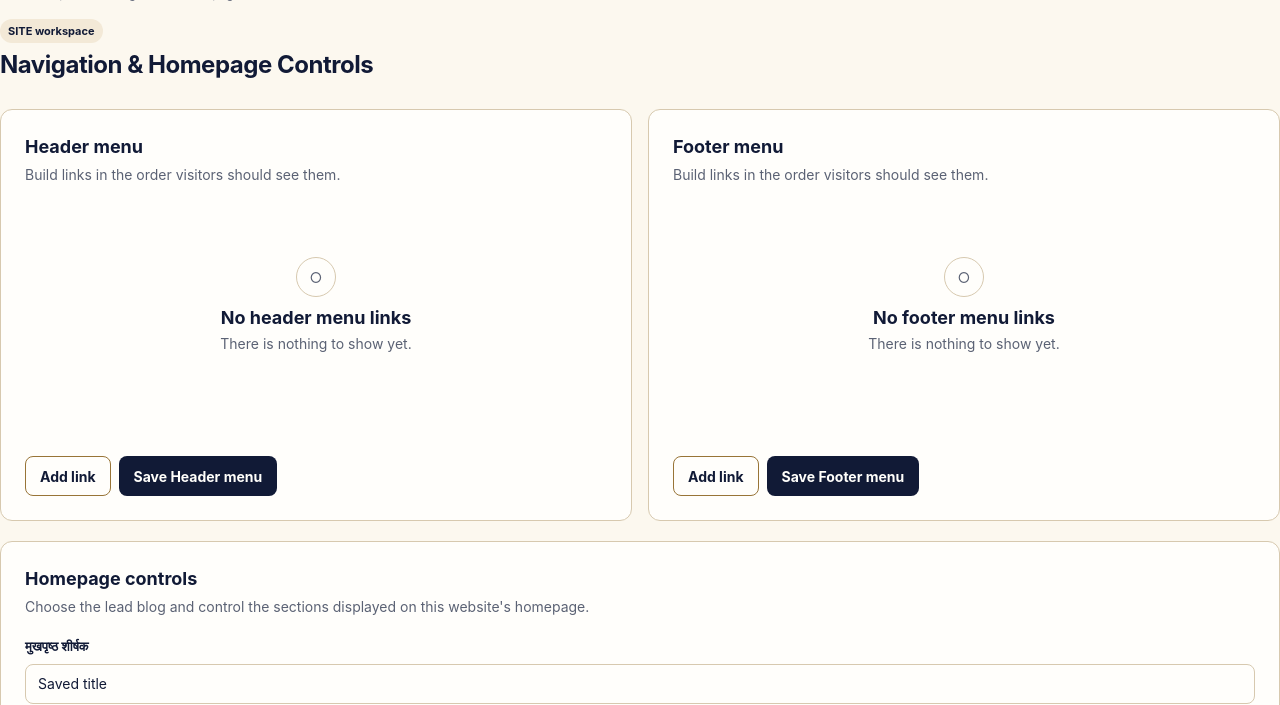
Home starter placeholders cannot be submitted by the workspace
The width and height of the screenshot is (1280, 705).
Clear the field labelled "मुखपृष्ठ शीर्षक". click: (640, 684)
box: [25, 664, 1255, 704]
(page scrolled)
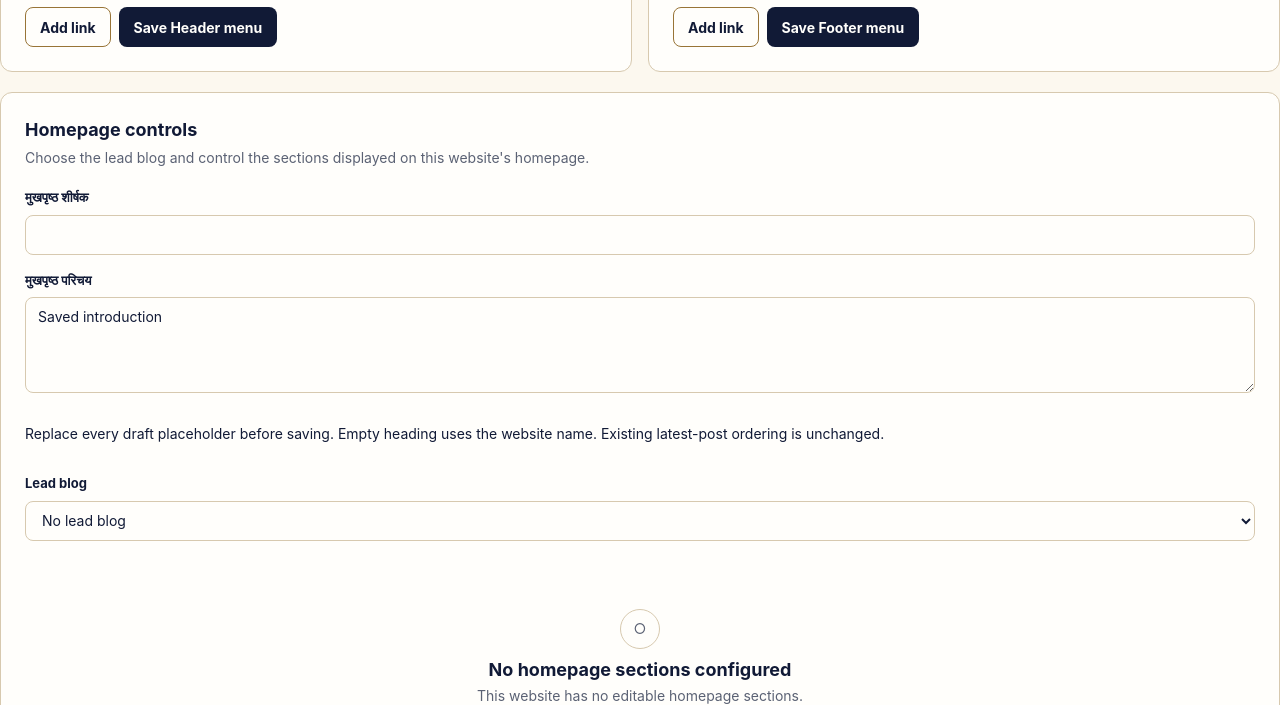
Clear the text box labelled "मुखपृष्ठ परिचय". click: (640, 345)
box: [25, 297, 1255, 393]
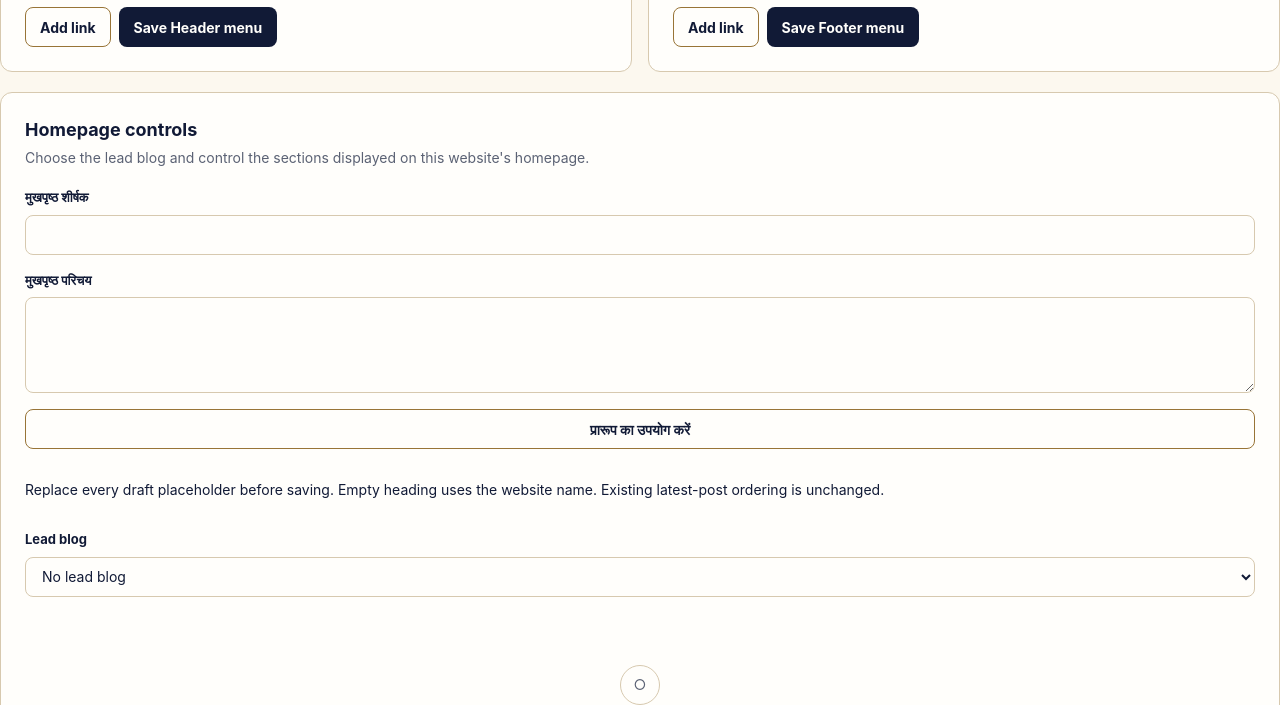
Click the button "प्रारूप का उपयोग करें". click: click(640, 429)
box: [25, 409, 1255, 449]
(page scrolled)
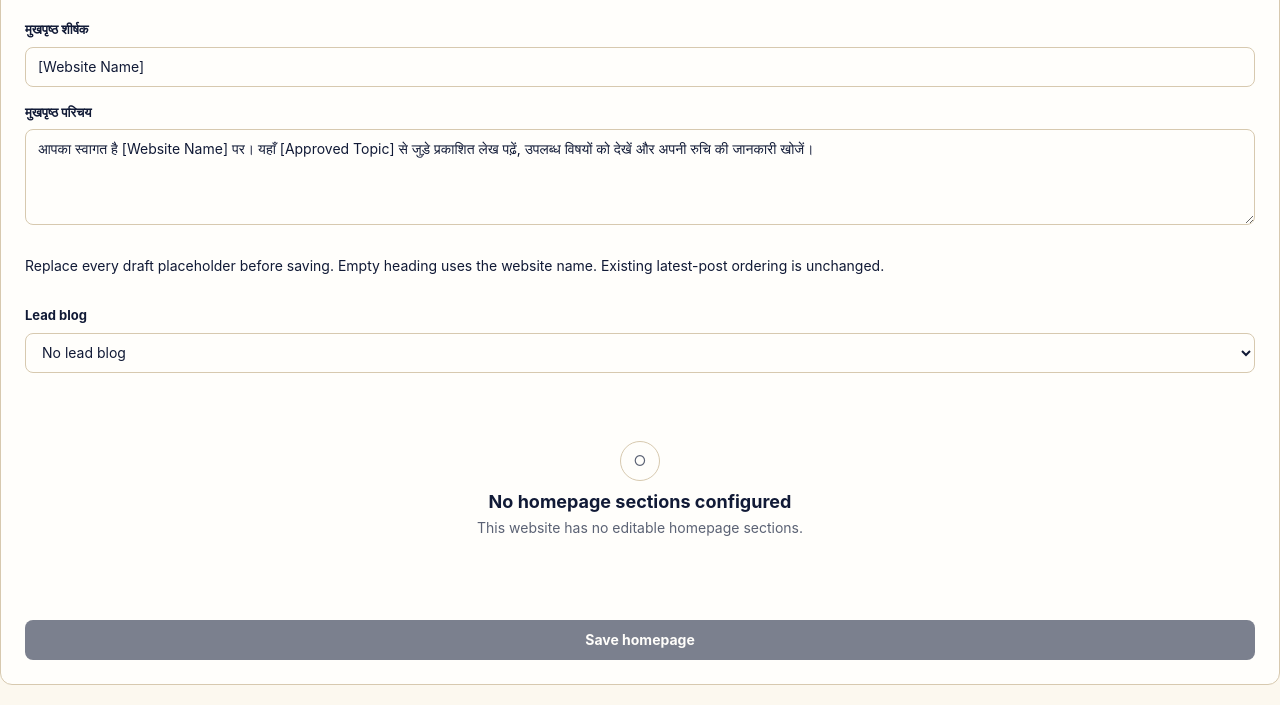
Now the button "Save homepage" is disabled, box [25, 620, 1255, 660]
